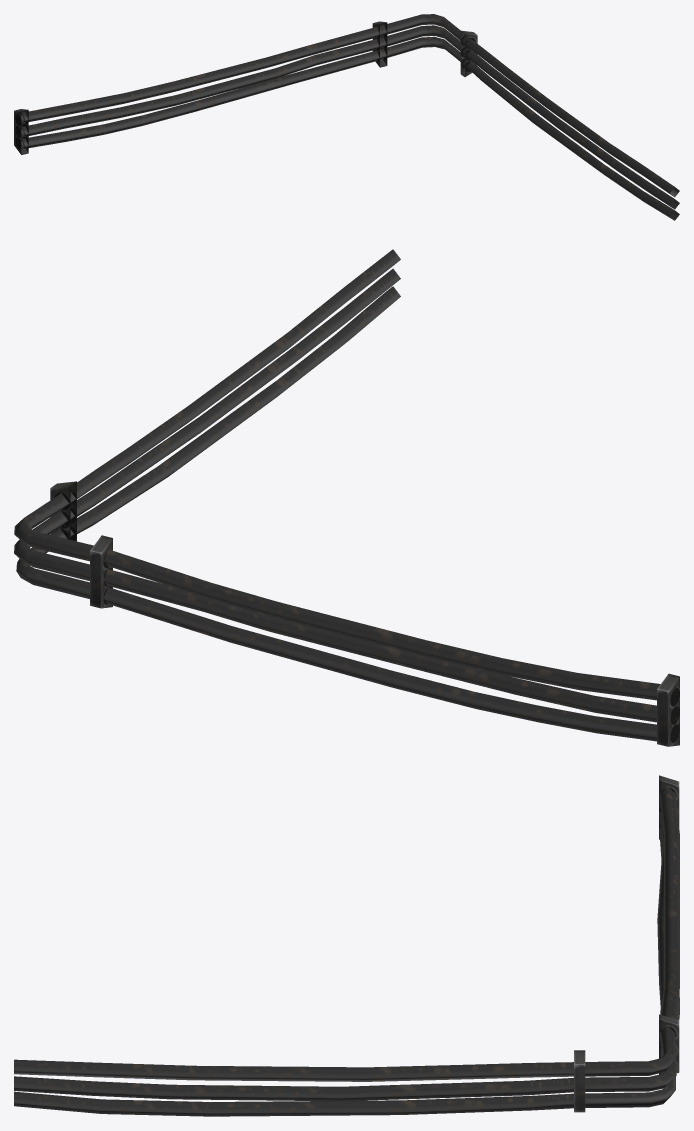
File: cableWall01_cornerOut.fbx
3 renders of one model, top to bottom at view 1: azimuth 30°, elevation 25°; view 2: azimuth 150°, elevation 25°; view 3: azimuth 270°, elevation 25°, orthographic. The views are drawn at different scales.
Visible parts, largest first — view 1: cableWall01_cornerOut; view 2: cableWall01_cornerOut; view 3: cableWall01_cornerOut.
Part boxes in pixels (<box>): cableWall01_cornerOut: <box>14,14,679,220</box>; cableWall01_cornerOut: <box>14,249,679,746</box>; cableWall01_cornerOut: <box>14,775,679,1116</box>.
Bounding box in the file's own units: 333 × 35.93 × 330.
